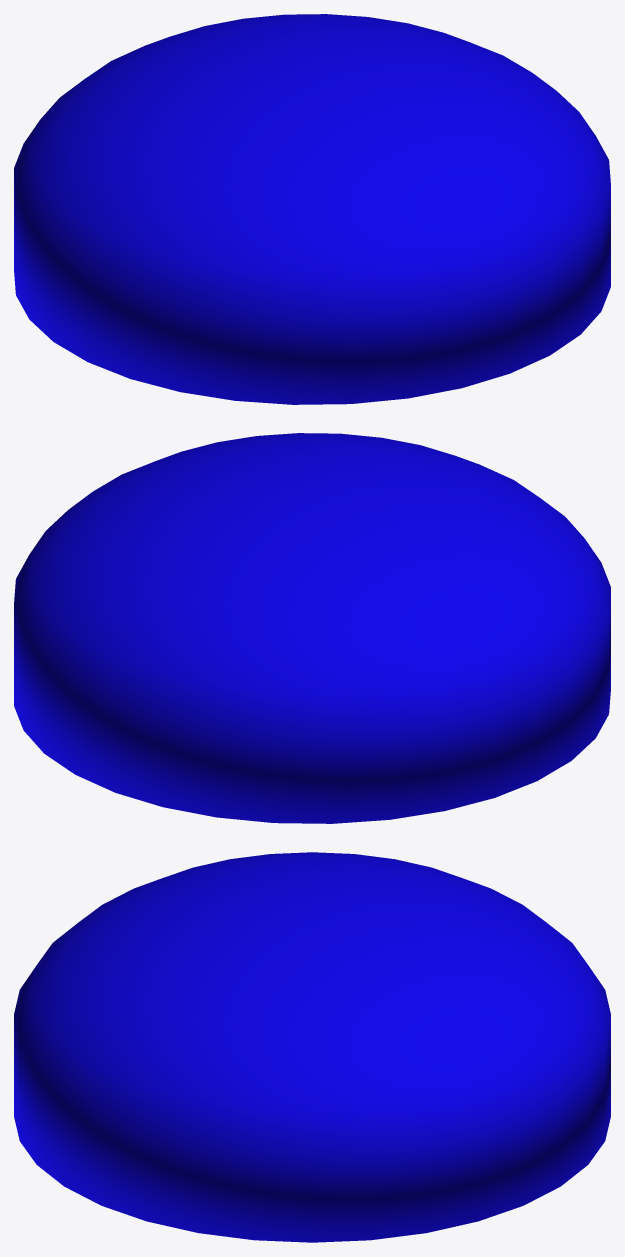
The model's file is button_three_colour.fbx.
The picture shows the model from 3 angles, top to bottom: view 1: azimuth 30°, elevation 25°; view 2: azimuth 150°, elevation 25°; view 3: azimuth 270°, elevation 25°; orthographic projection.
Visible parts, largest first — view 1: Sphere; view 2: Sphere; view 3: Sphere.
Boxes of the visible parts, left/top/right/bottom form: Sphere: left=14, top=14, right=610, bottom=404; Sphere: left=14, top=433, right=610, bottom=823; Sphere: left=14, top=852, right=610, bottom=1242.
Size of the model in its own units: 196 by 77.61 by 196.
